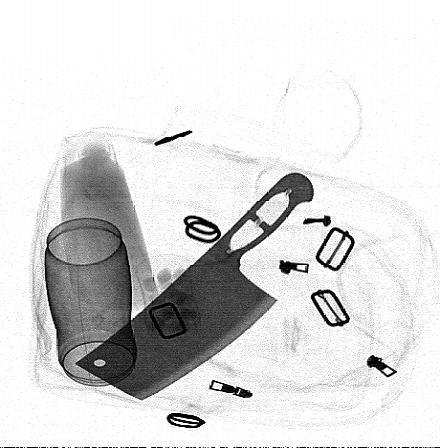Knife: (72, 170, 315, 402)
